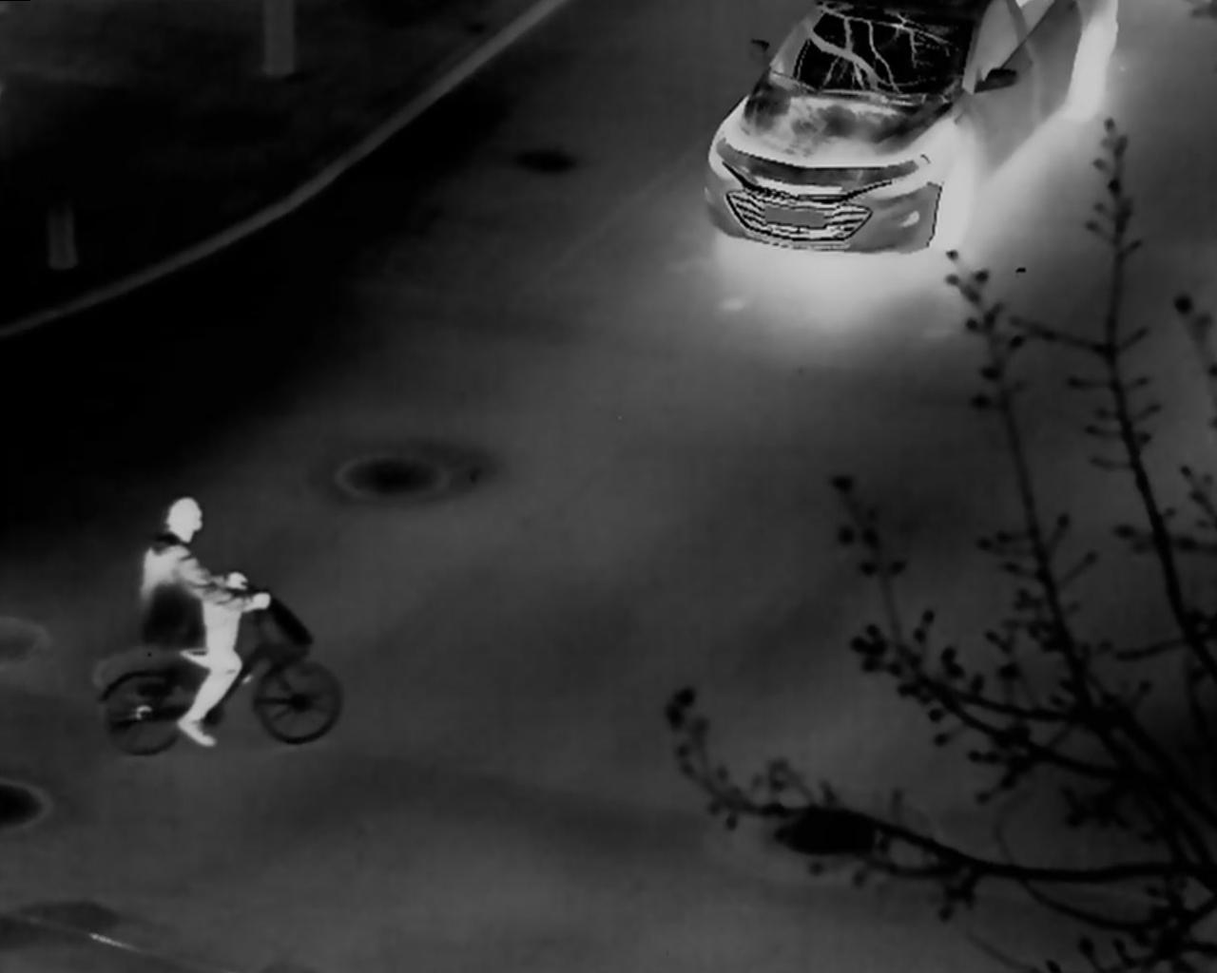person: (140, 496, 270, 746)
